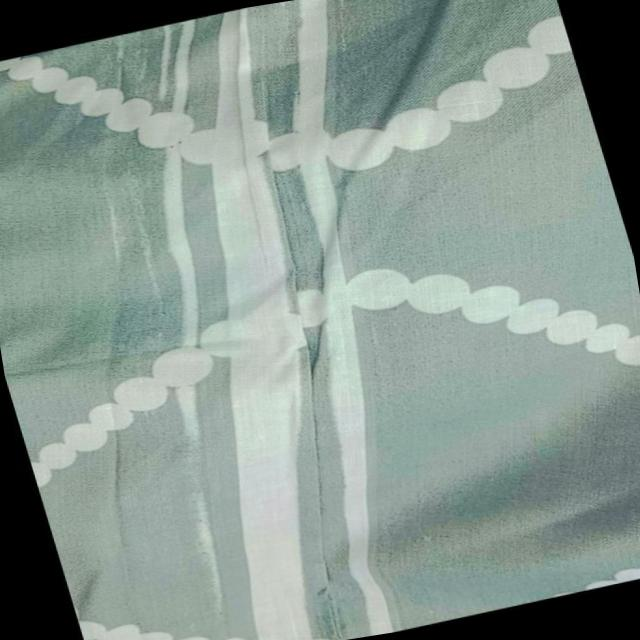selvet: (87, 0, 442, 360), (117, 312, 445, 640)
